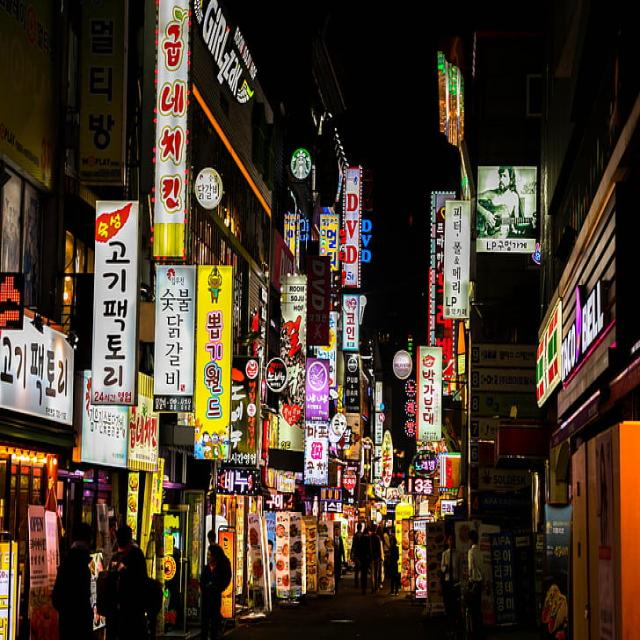light_signboard: (151, 0, 192, 260), (91, 200, 139, 407), (0, 306, 73, 432), (195, 0, 265, 115), (195, 262, 234, 459), (152, 268, 196, 419), (476, 164, 536, 254), (75, 371, 125, 474), (276, 281, 306, 451), (435, 198, 458, 398), (553, 294, 614, 364), (223, 356, 258, 464), (446, 202, 471, 327), (128, 387, 159, 472), (536, 307, 560, 410), (316, 312, 342, 398), (420, 347, 442, 444), (343, 165, 359, 290), (304, 357, 331, 428), (211, 463, 259, 497), (193, 167, 224, 218), (340, 353, 363, 414), (218, 530, 233, 620), (259, 474, 294, 512), (306, 425, 326, 483), (252, 279, 264, 368), (438, 446, 460, 492), (319, 213, 335, 275), (259, 416, 272, 486), (341, 293, 357, 344), (319, 484, 346, 514), (381, 430, 396, 483), (336, 225, 348, 289), (405, 374, 416, 442), (294, 146, 312, 184), (264, 358, 283, 391), (393, 345, 409, 382), (331, 412, 347, 446), (406, 478, 432, 496), (362, 220, 372, 262), (417, 447, 432, 473), (340, 468, 356, 492), (372, 375, 381, 411), (372, 413, 382, 445), (372, 444, 382, 476), (444, 497, 459, 515)
lighting: (435, 62, 462, 145), (324, 111, 350, 169), (38, 452, 51, 470), (22, 447, 33, 468), (28, 451, 41, 467), (15, 446, 24, 464), (10, 447, 18, 465), (55, 455, 60, 467)
